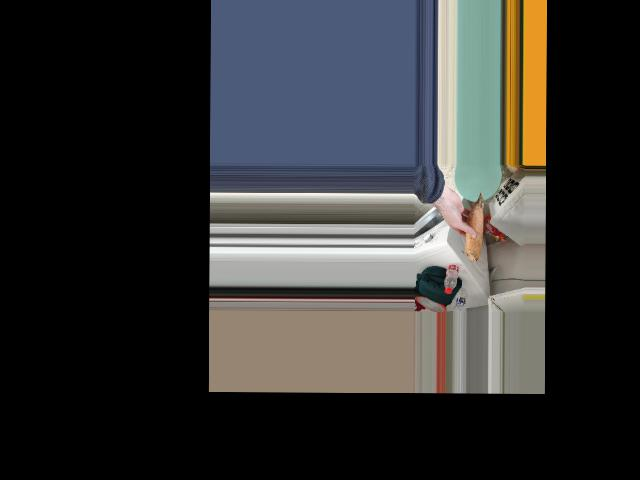sweet_potato: (460, 194, 483, 255)
